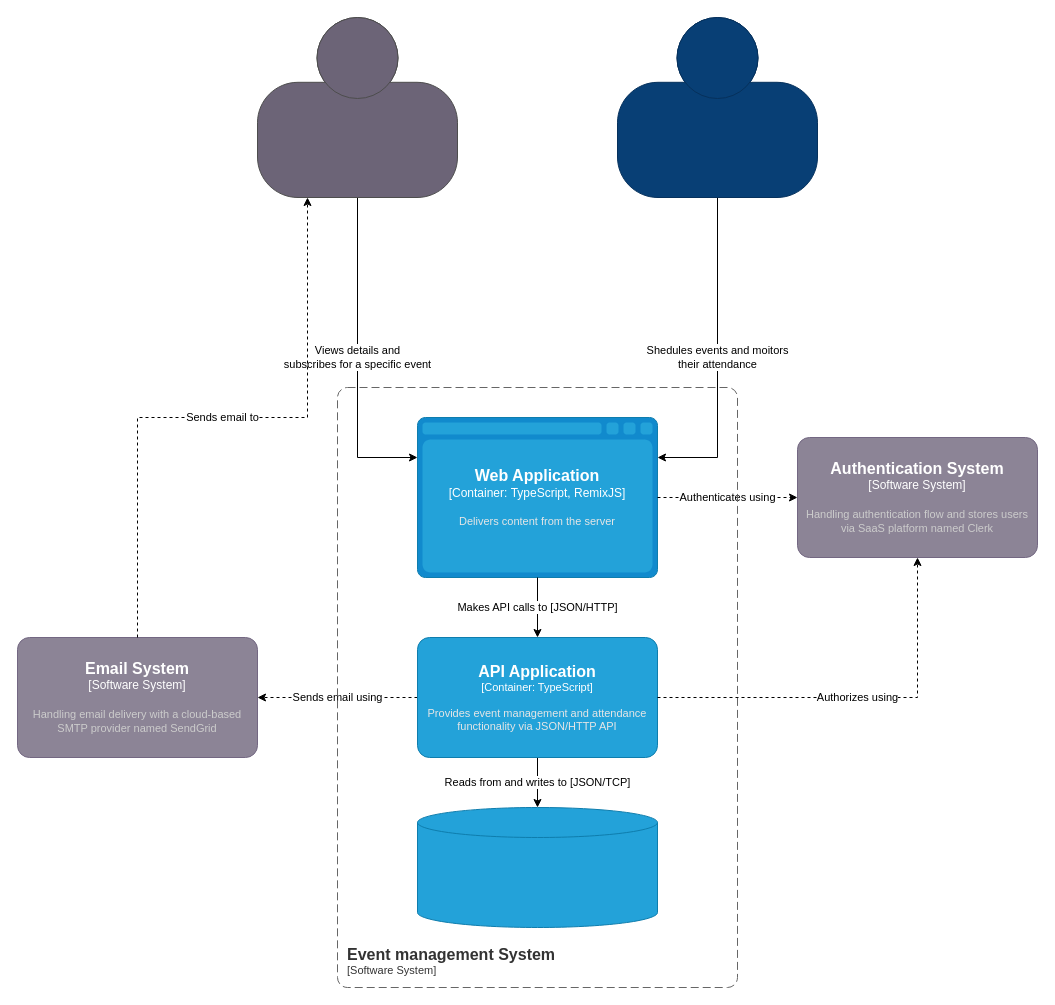
This 1055x1005 diagram has some shape labels left out. The centre of each missing label's shape, as x and y in pixels:
"Attendee [Person] Unauthenticated user" goes at (357,107).
"Database [Container: MongoDB] Stores event details and attendee information" goes at (537,867).
"Organizer [Person] Authenticated user" goes at (717,107).
